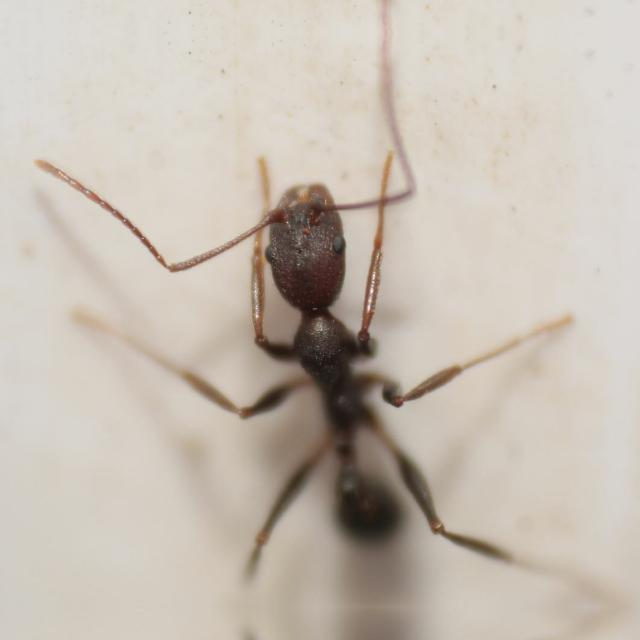Apheanogaster: (180, 135, 480, 603)
